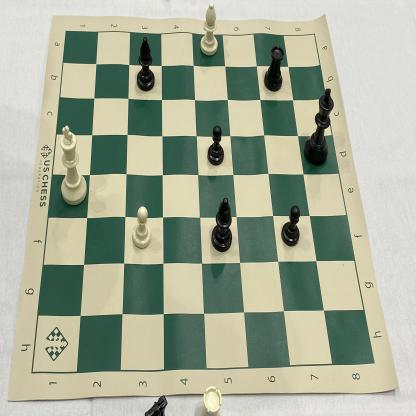black-bishop: (207, 193, 238, 255), (134, 34, 160, 96)
black-king: (302, 82, 335, 172)
black-pawn: (277, 201, 302, 251), (204, 121, 230, 169)
black-rook: (262, 42, 288, 94)
white-bishop: (200, 0, 225, 60)
white-king: (57, 115, 93, 211)
white-pawn: (130, 201, 157, 251)
